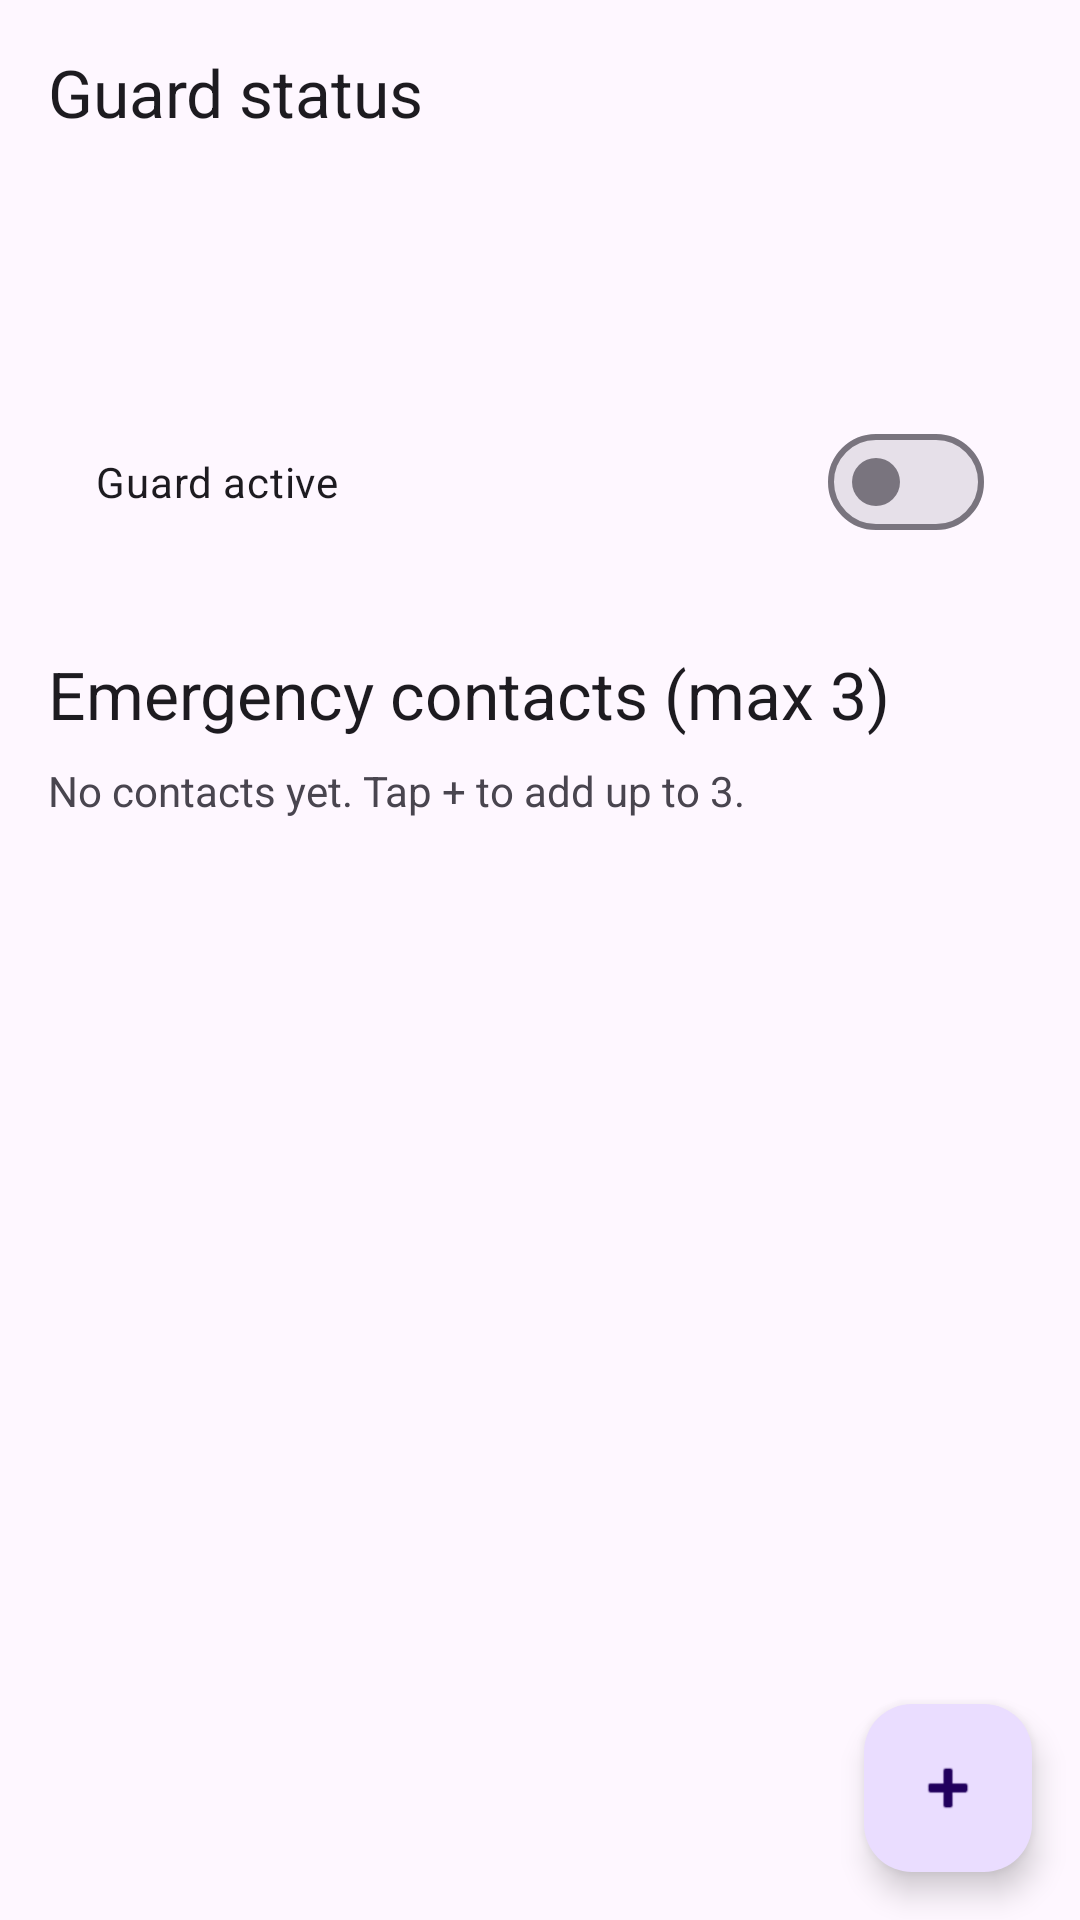

Where icons sit on this 1080 × 1920 app screen, as (x1, y1, x2, y2):
Add contact: (864, 1704, 1032, 1872)
